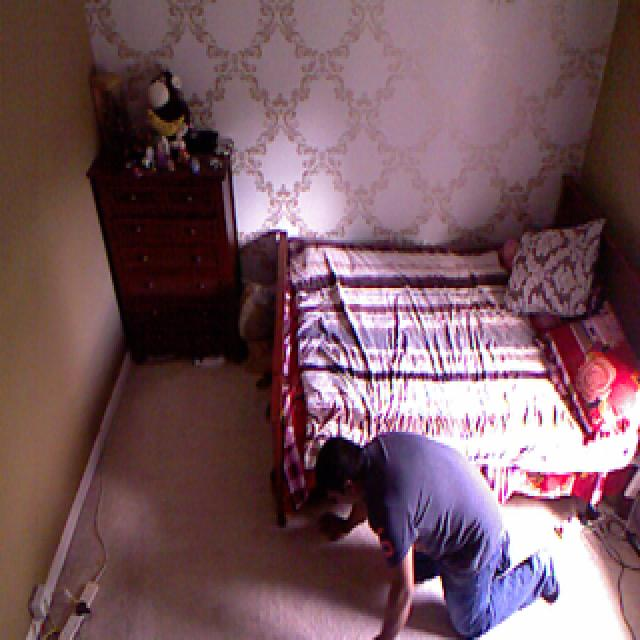crawling: (312, 429, 560, 640)
